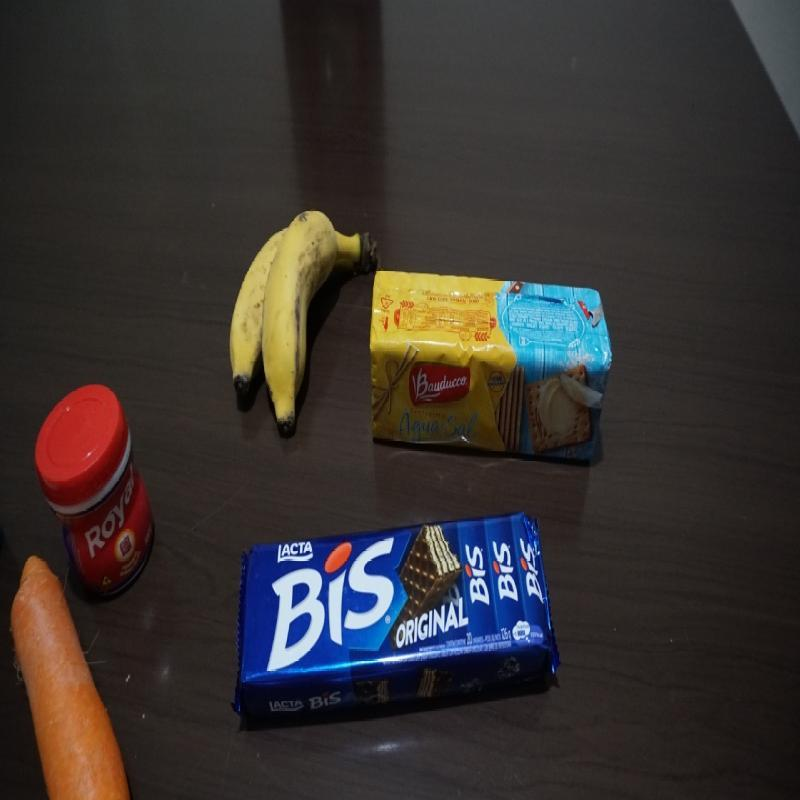Banana: (228, 206, 381, 438)
Carrot: (9, 550, 136, 799)
Cracker: (367, 262, 614, 470)
Yeast: (31, 377, 156, 602)
